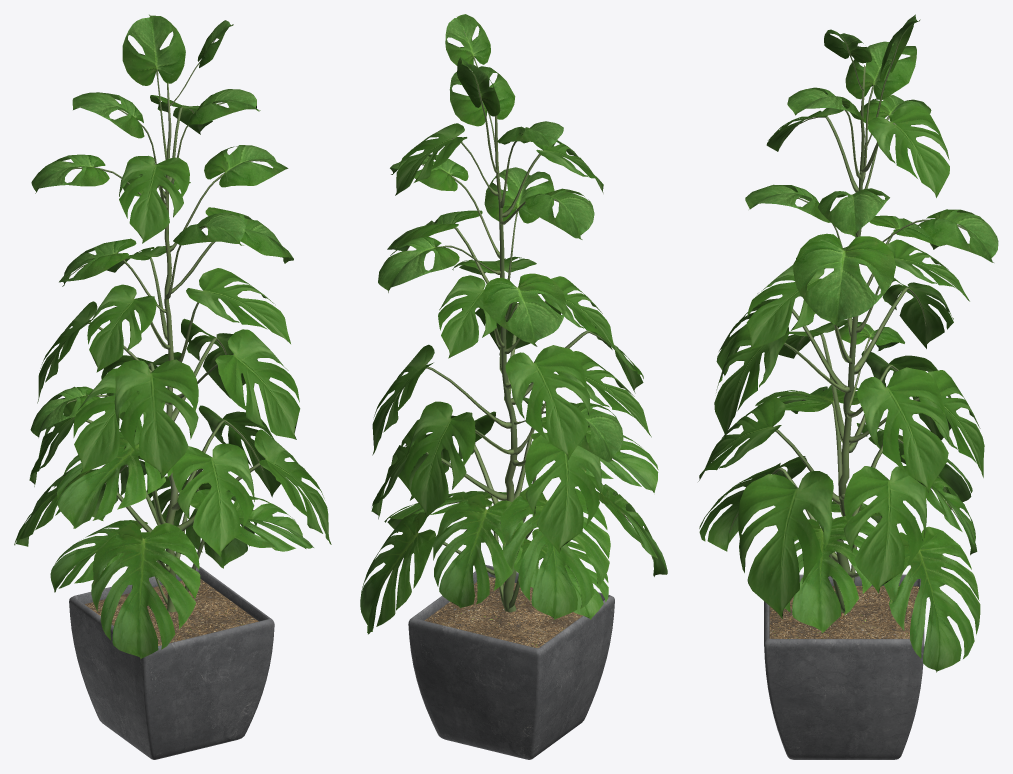
Rendered from geo_plant_monstera.fbx.
3 renders of one model, left to right at view 1: azimuth 30°, elevation 25°; view 2: azimuth 150°, elevation 25°; view 3: azimuth 270°, elevation 25°, orthographic. The views are drawn at different scales.
Parts seen in each view (by area): view 1: geo_plant_monstera_LOD0; view 2: geo_plant_monstera_LOD0; view 3: geo_plant_monstera_LOD0.
Part boxes in pixels (x1,y1,x2,y2): geo_plant_monstera_LOD0: (14,14,331,759); geo_plant_monstera_LOD0: (360,14,667,759); geo_plant_monstera_LOD0: (698,14,998,759).
Bounding box in the file's own units: 0.5657 × 1.45 × 0.541.
